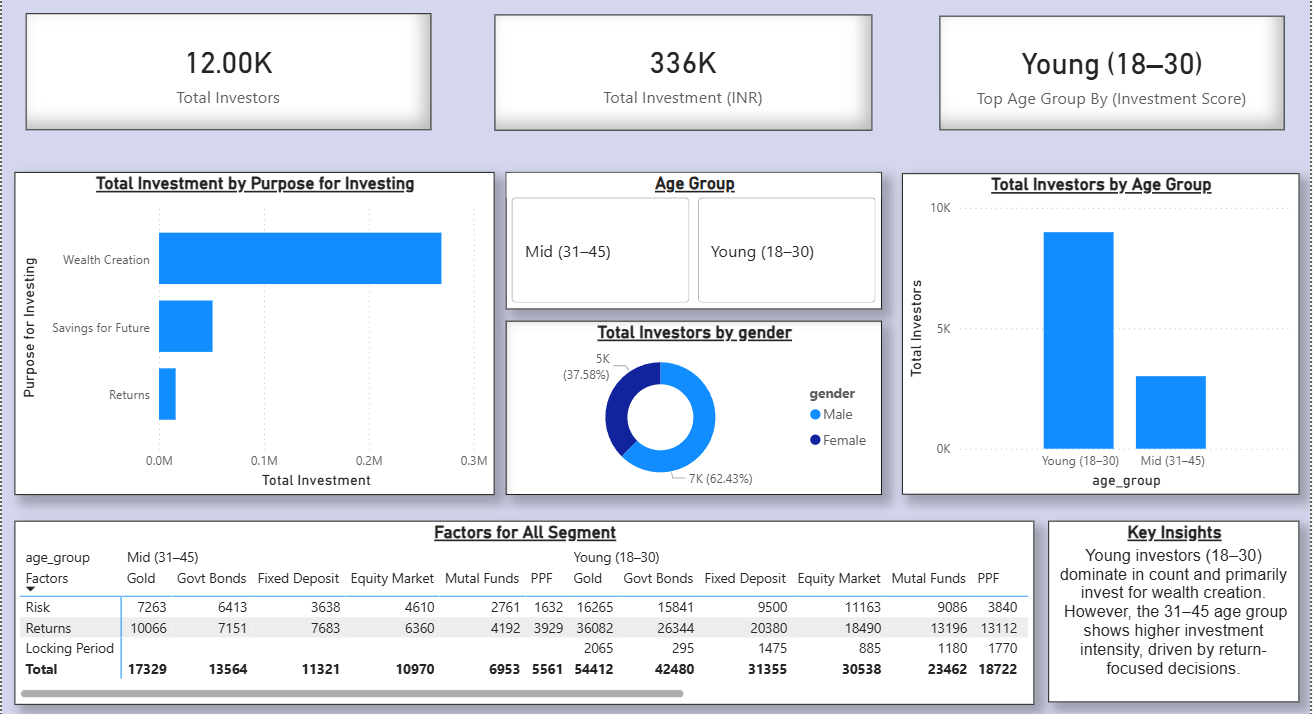

The page's visual inventory and layout, read from the dashboard file:
{"tool":"powerbi","page":{"name":"Page 1","canvas":[1280,720],"ordinal":0},"visuals":[{"type":"card","fields":{"Values":["CountNonNull(finance_db finance_trends_enriched.gender)"]},"box":[22.6,20.3,396.9,114.4],"z":0},{"type":"card","fields":{"Values":["Sum(finance_db finance_trends_enriched.total_investment_score)"]},"box":[481.6,21.5,369.5,113.2],"z":1000},{"type":"card","fields":{"Values":["finance.Top Age Group"]},"box":[916.7,22.6,337.3,112.1],"z":2000},{"type":"donutChart","fields":{"Category":["finance.gender"],"Y":["finance.Total Investors"]},"box":[492.3,321.8,368.3,170.5],"z":3000},{"type":"clusteredColumnChart","title":"Total Investors by Age Group","fields":{"Category":["finance.age_group"],"Y":["finance.Total Investors"]},"box":[880.9,177.6,388.6,314.7],"z":4000},{"type":"pivotTable","title":"Factors for All Segment","fields":{"Rows":["finance.factor"],"Values":["Sum(finance.gold)","Sum(finance.government_bonds)","Sum(finance.fixed_deposits)","Sum(finance.equity_market)","Sum(finance.mutual_funds)","Sum(finance.ppf)"],"Columns":["finance.age_group"]},"box":[11.9,517.3,997.7,180],"z":5000},{"type":"clusteredBarChart","fields":{"Category":["finance.purpose"],"Y":["Sum(finance.total_investment_score)"]},"box":[11.9,176.4,469.7,315.9],"z":6000},{"type":"advancedSlicerVisual","title":"Age Group","fields":{"Values":["finance.age_group"]},"box":[492.3,176.4,368.3,134.7],"z":7000},{"type":"textbox","title":"Key Insights","box":[1024,517.3,245.6,177.6],"z":8000}]}

Visuals, with their boxes in screenshot pixels (x1, y1, x2, y2):
card - CountNonNull(finance_db finance_trends_enriched.gender): region(26, 14, 429, 130)
card - Sum(finance_db finance_trends_enriched.total_investment_score): region(492, 15, 867, 130)
card - finance.Top Age Group: region(934, 16, 1276, 130)
donutChart - finance.gender x finance.Total Investors: region(503, 320, 877, 493)
"Total Investors by Age Group" clusteredColumnChart: region(897, 173, 1292, 493)
"Factors for All Segment" pivotTable: region(15, 518, 1028, 701)
clusteredBarChart - finance.purpose x Sum(finance.total_investment_score): region(15, 172, 492, 493)
"Age Group" advancedSlicerVisual: region(503, 172, 877, 309)
"Key Insights" textbox: region(1043, 518, 1292, 698)
